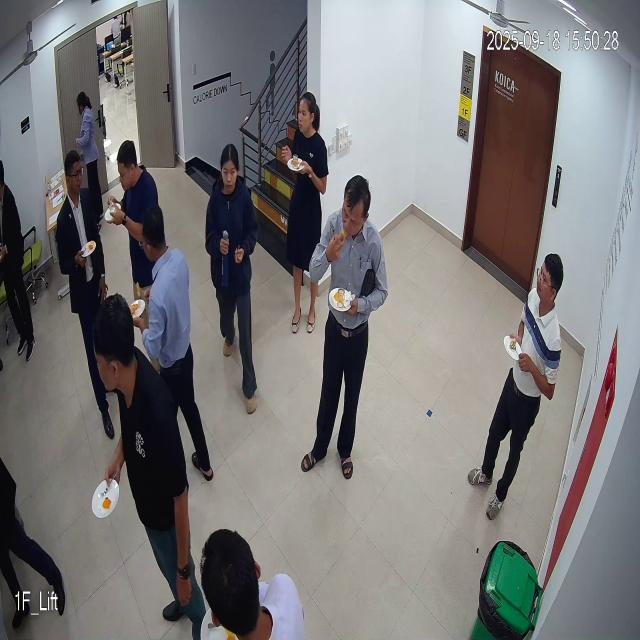face: (338, 171, 371, 242), (534, 252, 567, 314), (216, 144, 243, 198), (296, 90, 320, 142)
